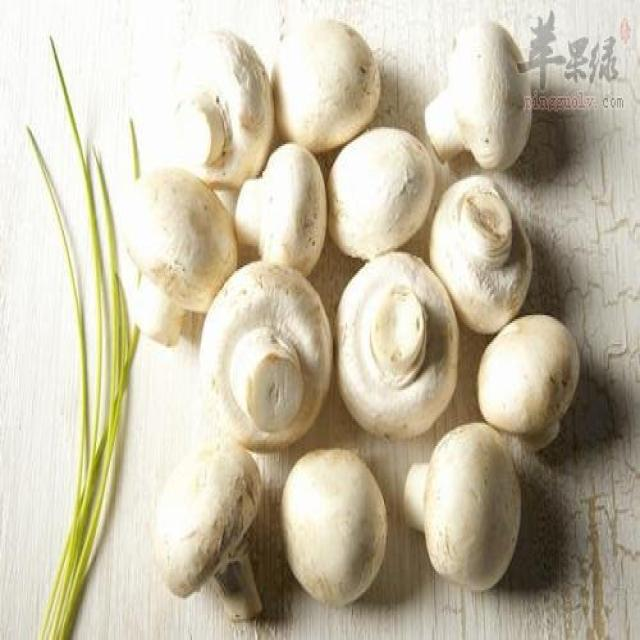Agaricus bisporus: (205, 262, 332, 452), (339, 250, 461, 440), (144, 440, 267, 624), (401, 424, 527, 592), (120, 169, 234, 346), (283, 442, 389, 608), (432, 176, 535, 332), (428, 21, 537, 168), (174, 30, 272, 185), (478, 310, 582, 451), (276, 19, 382, 148), (327, 127, 435, 253), (234, 144, 328, 273)
